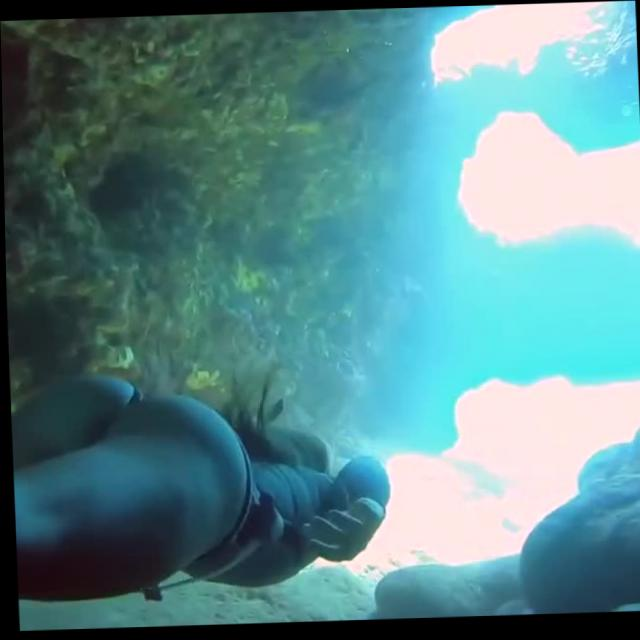human: (6, 337, 407, 630)
